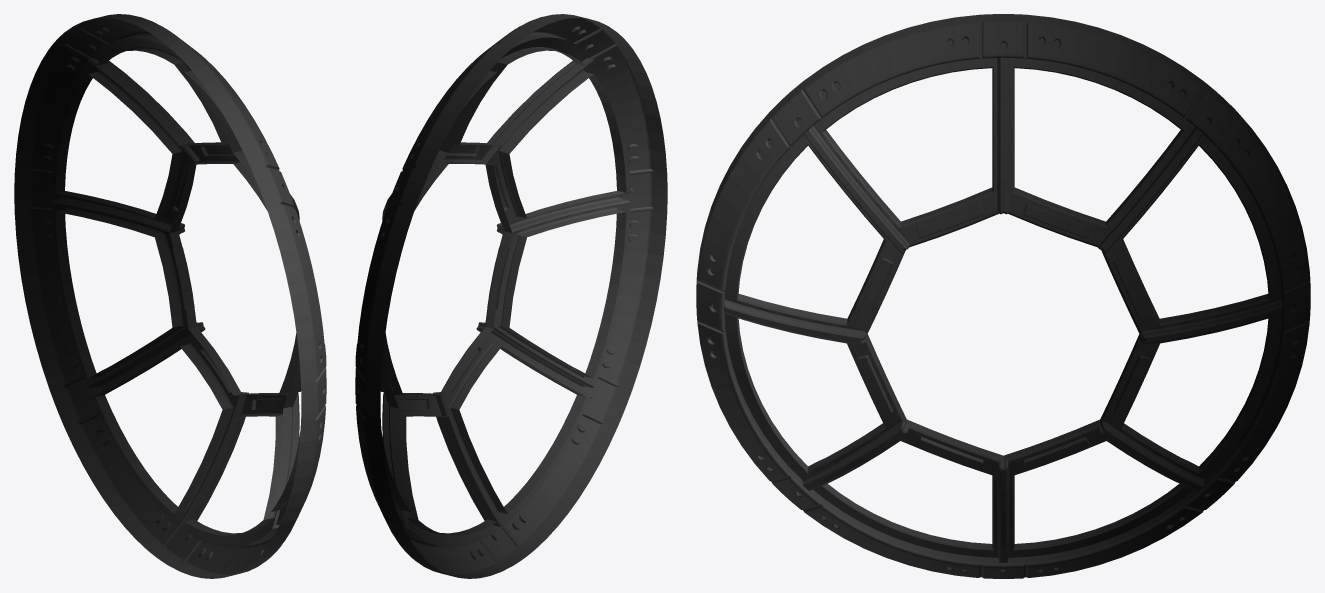
The model's file is marcoventana.fbx.
3 renders of one model, left to right at view 1: azimuth 30°, elevation 25°; view 2: azimuth 150°, elevation 25°; view 3: azimuth 270°, elevation 25°, orthographic. The views are drawn at different scales.
Visible parts, largest first — view 1: marcoventana; view 2: marcoventana; view 3: marcoventana.
Part boxes in pixels (x1,y1,x2,y2): marcoventana: [14, 14, 326, 578]; marcoventana: [355, 14, 667, 578]; marcoventana: [696, 14, 1310, 578].
Size of the model in its own units: 0.9045 by 4.83 by 4.83.
